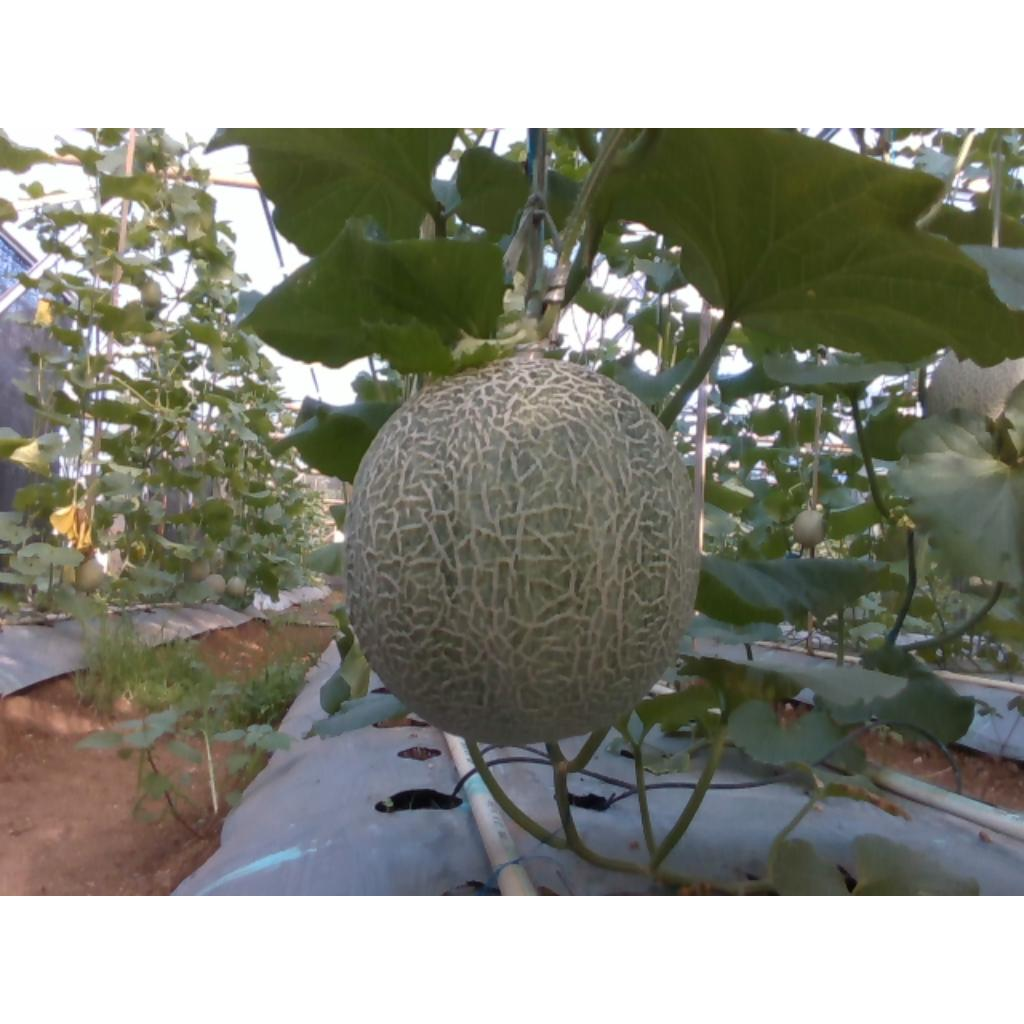melon: (346, 357, 699, 745)
